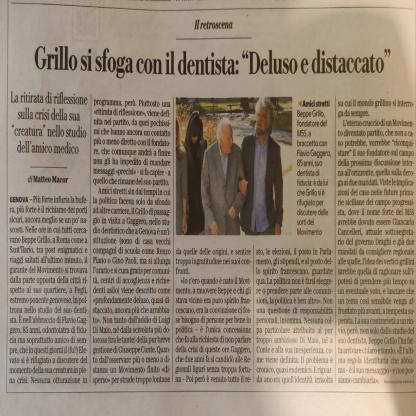immagine: (173, 96, 294, 239)
testo_col: (90, 93, 172, 392), (335, 93, 416, 386), (6, 189, 90, 394), (253, 242, 336, 396), (173, 243, 253, 393)
titolo: (25, 34, 398, 89)
